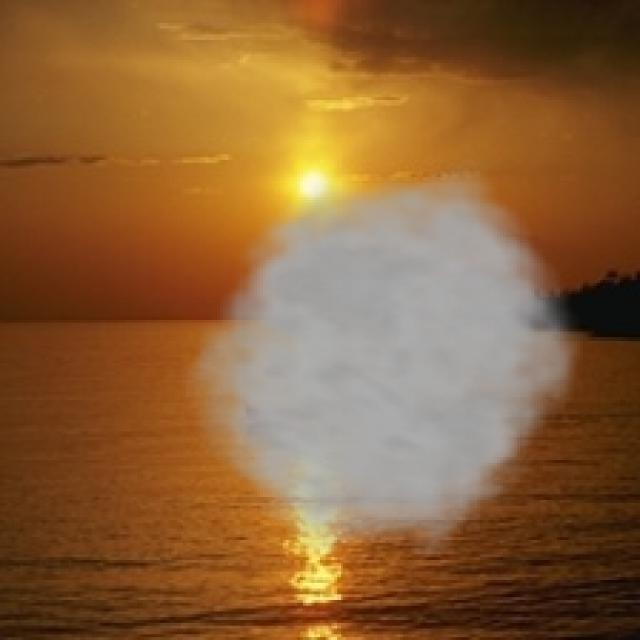Smoke: (174, 154, 592, 557)
